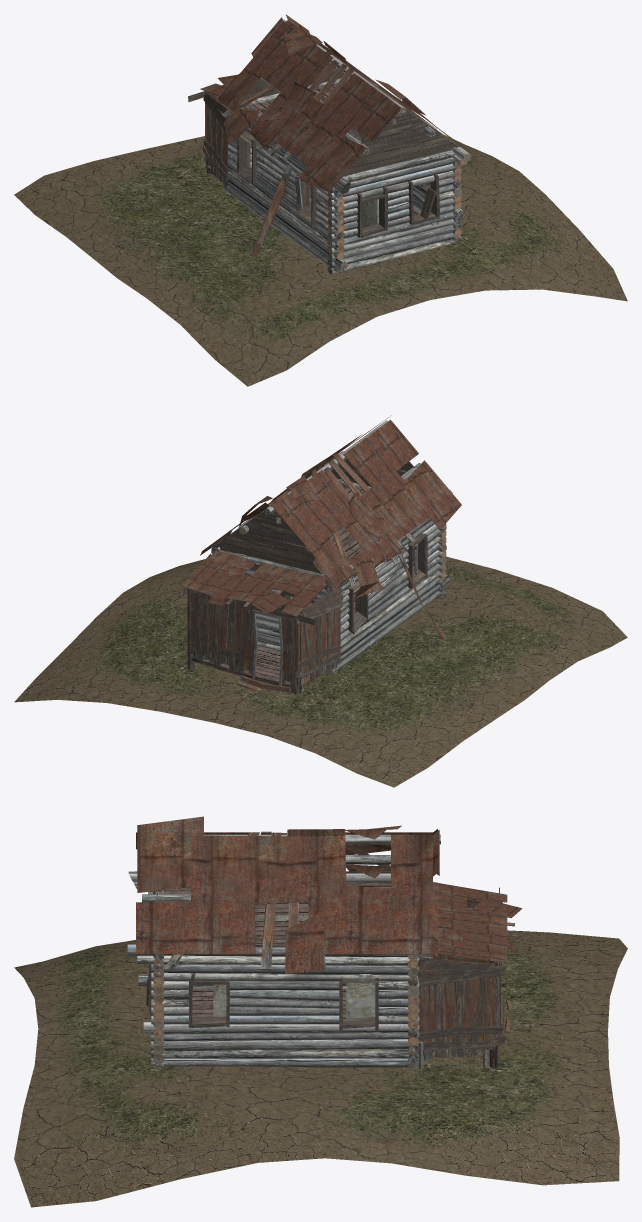
Rendered from destroyed-house.glb.
The picture shows the model from 3 angles, top to bottom: view 1: azimuth 30°, elevation 25°; view 2: azimuth 150°, elevation 25°; view 3: azimuth 270°, elevation 25°; orthographic projection. The views are drawn at different scales.
Parts seen in each view (by area): view 1: Object_2, Object_5, Object_4, Object_6, Object_9, Object_7, Object_10; view 2: Object_2, Object_4, Object_6, Object_5, Object_9, Object_10, Object_7; view 3: Object_2, Object_4, Object_5, Object_6, Object_9, Object_10, Object_7, Object_3.
Part boxes in pixels (left/top/right/bottom): Object_2: left=14, top=134, right=627, bottom=386; Object_5: left=210, top=19, right=469, bottom=274; Object_4: left=200, top=14, right=471, bottom=192; Object_6: left=188, top=63, right=458, bottom=237; Object_9: left=205, top=49, right=466, bottom=256; Object_7: left=328, top=107, right=471, bottom=274; Object_10: left=206, top=84, right=420, bottom=228; Object_2: left=14, top=550, right=627, bottom=787; Object_4: left=181, top=415, right=461, bottom=616; Object_6: left=183, top=459, right=427, bottom=694; Object_5: left=194, top=420, right=452, bottom=691; Object_9: left=187, top=451, right=445, bottom=697; Object_10: left=187, top=485, right=365, bottom=694; Object_7: left=211, top=508, right=446, bottom=674; Object_2: left=14, top=930, right=627, bottom=1207; Object_4: left=136, top=816, right=522, bottom=973; Object_5: left=127, top=834, right=499, bottom=1069; Object_6: left=146, top=882, right=505, bottom=1057; Object_9: left=164, top=831, right=511, bottom=1060; Object_10: left=159, top=882, right=518, bottom=1068; Object_7: left=153, top=954, right=418, bottom=1069; Object_3: left=213, top=915, right=375, bottom=1018.
Bounding box in the file's own units: 14.6 × 7.5 × 15.23.
8 materials, 8 textured.
